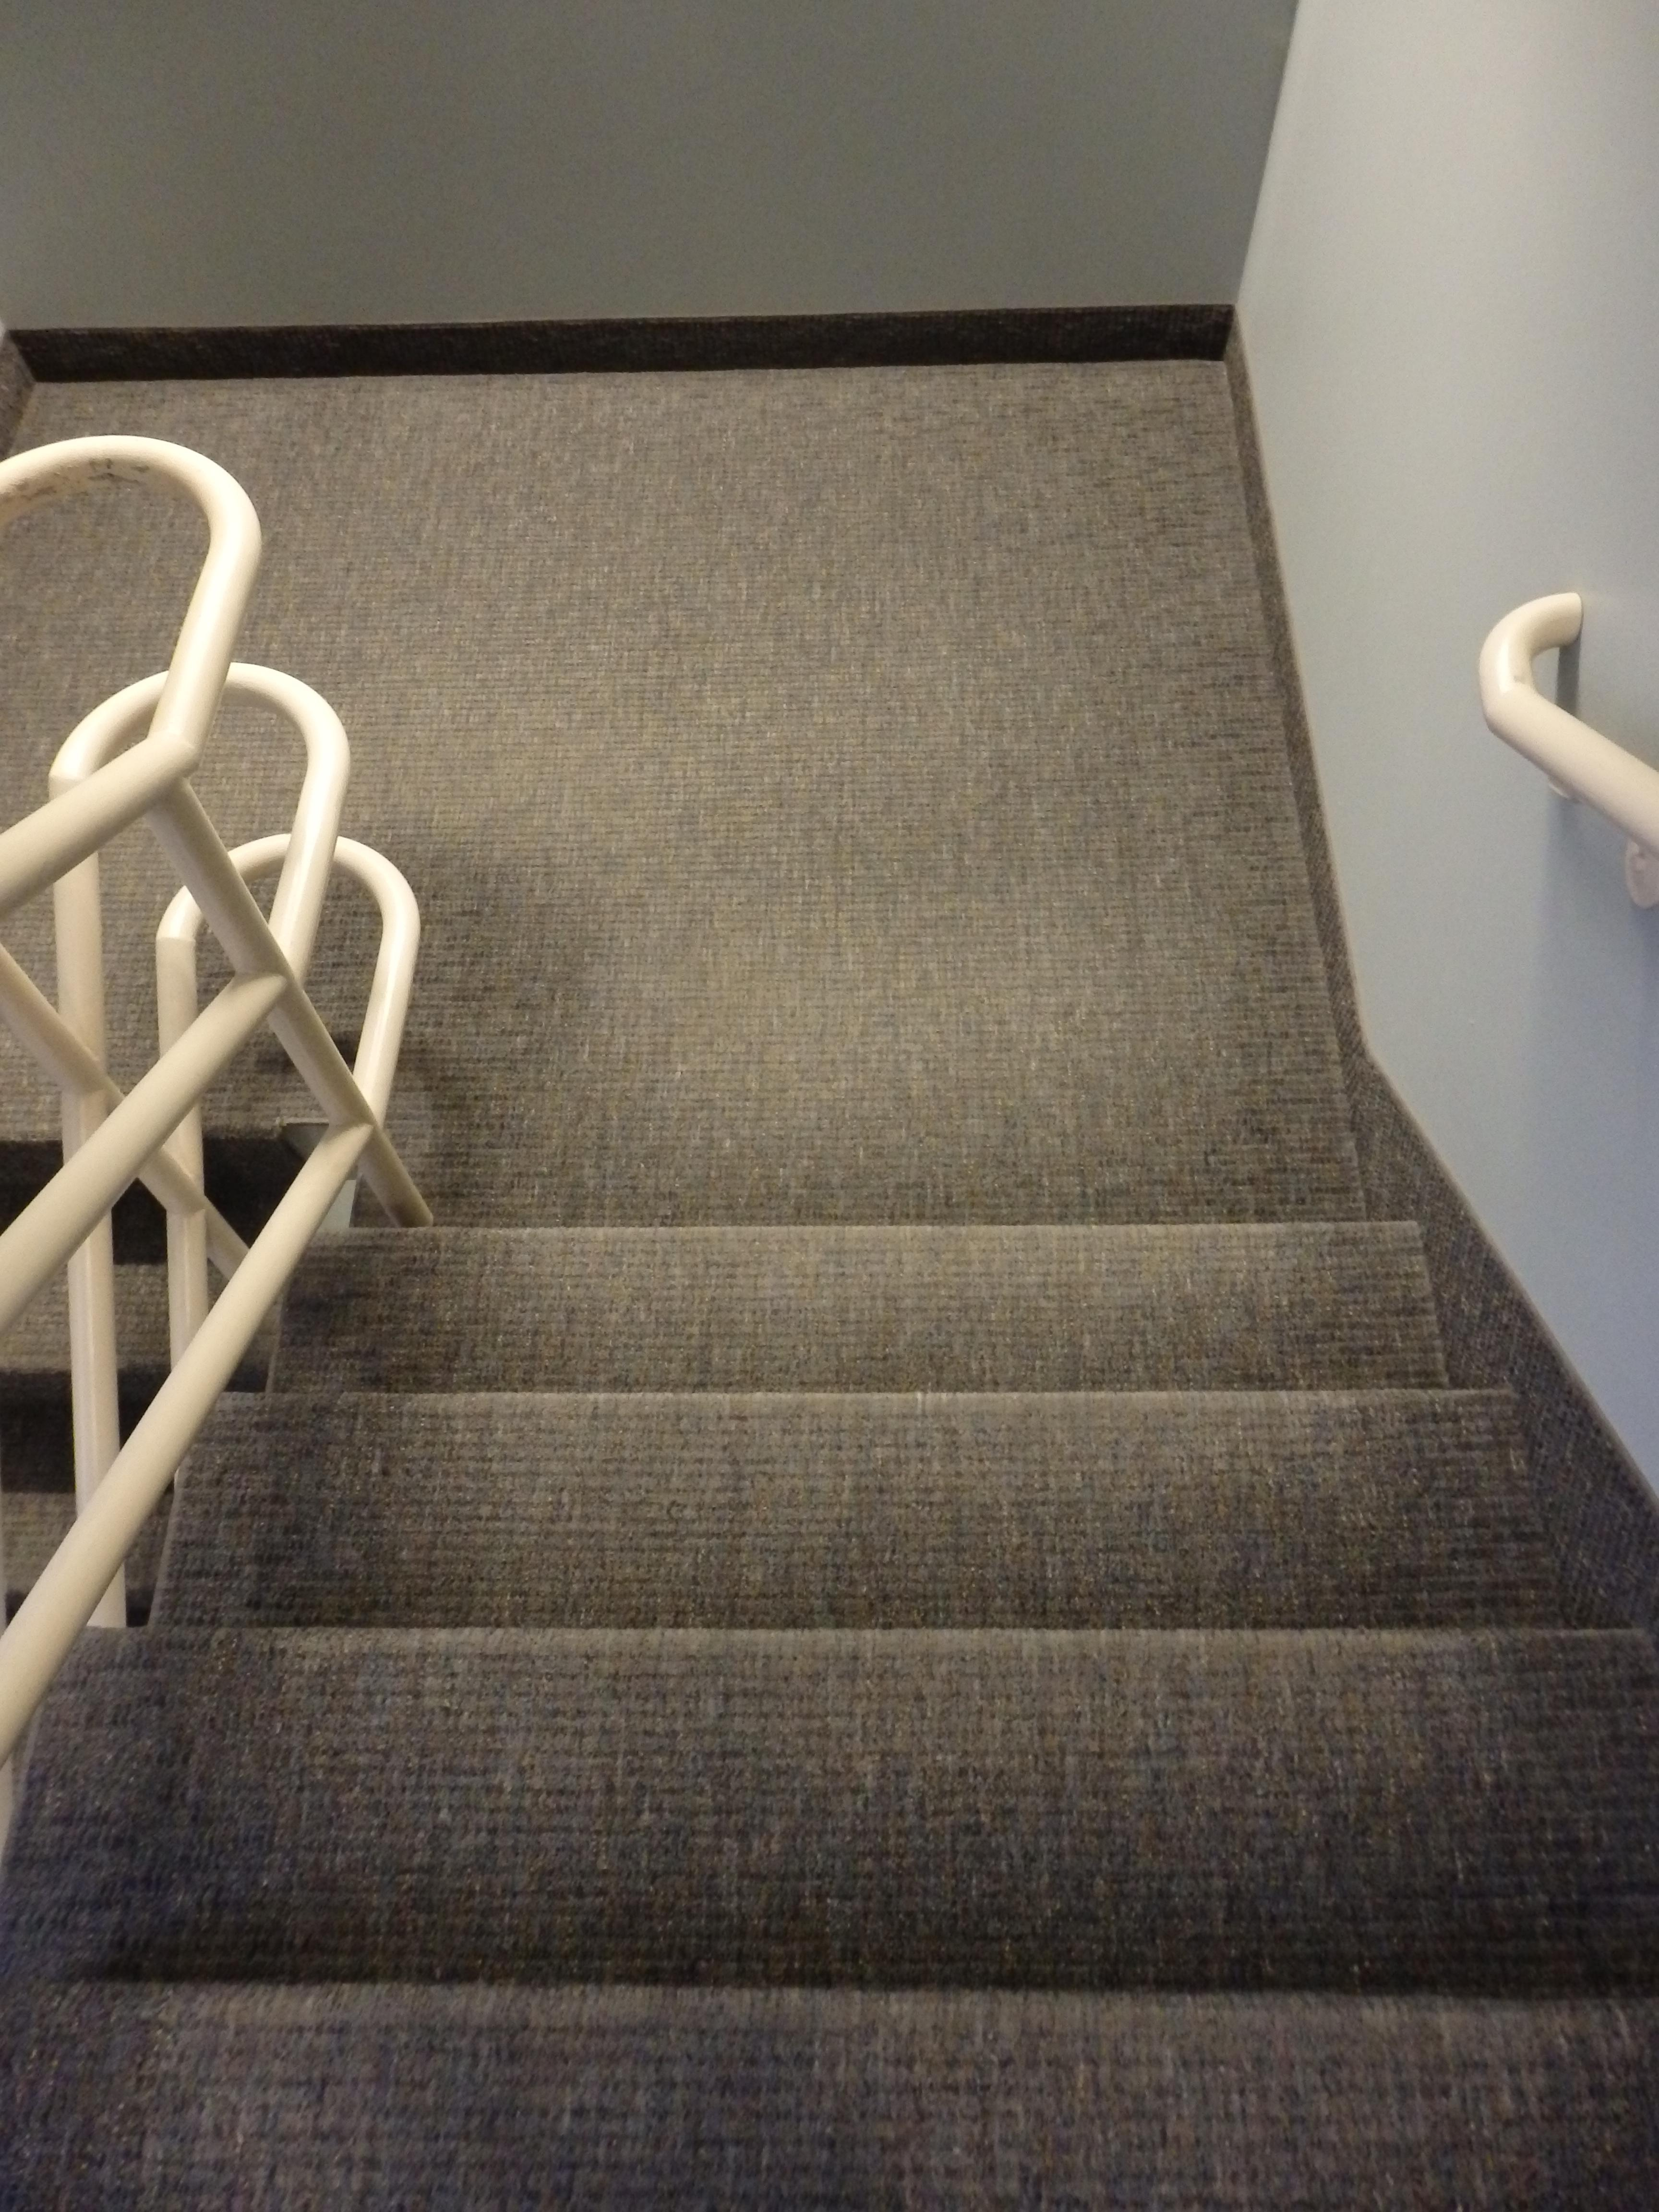stairs_down: (136, 1198, 1561, 2158)
